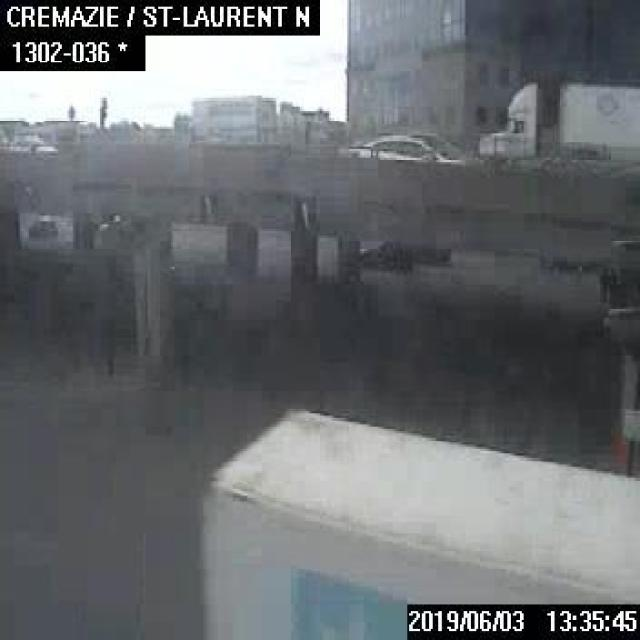vehicle: (198, 407, 638, 638), (478, 78, 638, 158), (400, 600, 638, 638), (351, 127, 470, 160), (356, 233, 413, 274), (4, 134, 56, 150), (414, 243, 448, 263)
